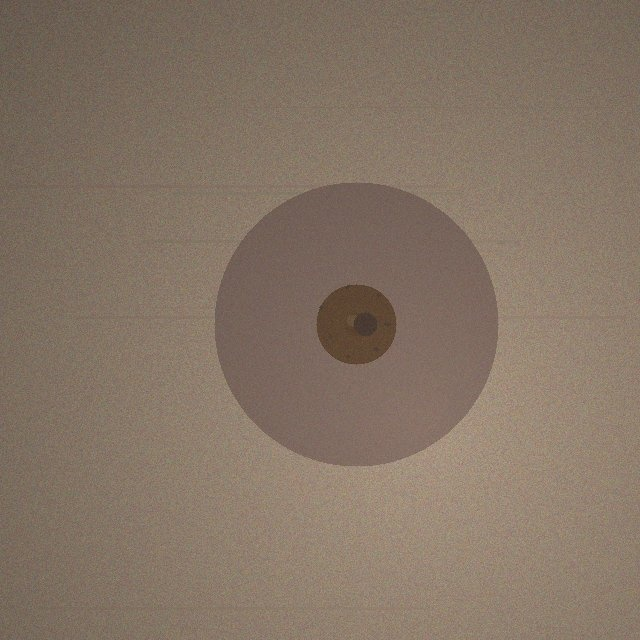cold_weld: (214, 182, 498, 466)
